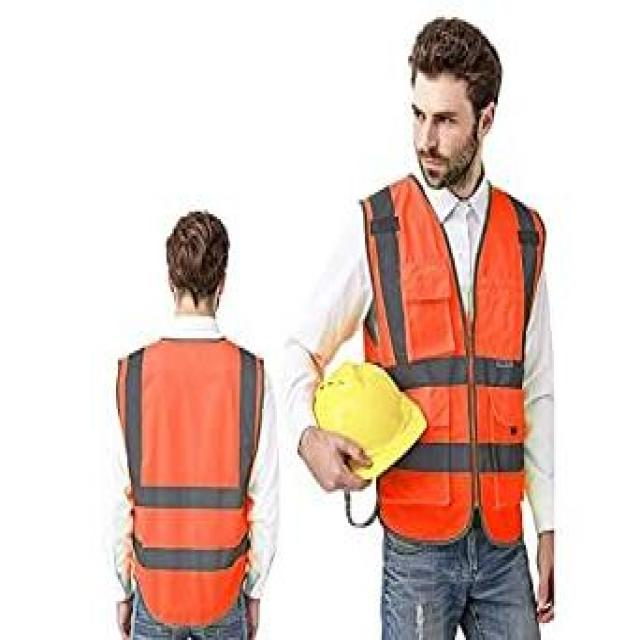Reflective-Jacket: (358, 168, 550, 547), (97, 323, 277, 632)
Safety-Helmet: (307, 355, 425, 492)
